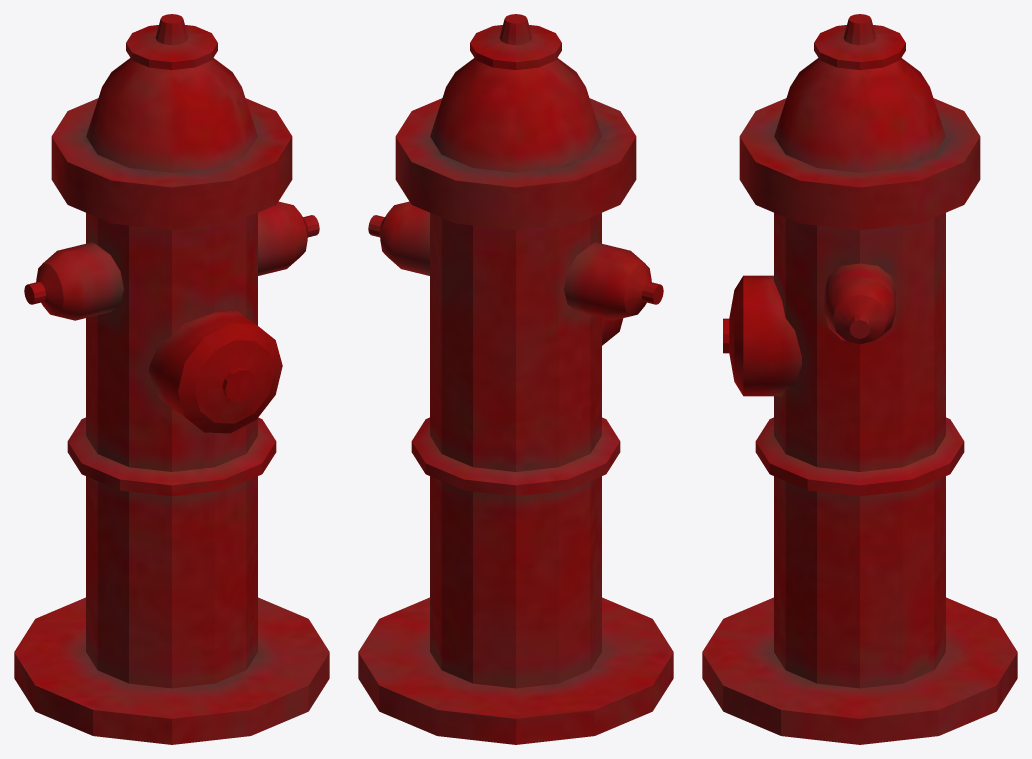
Rendered from hydrant.glb.
The picture shows the model from 3 angles, left to right: view 1: azimuth 30°, elevation 25°; view 2: azimuth 150°, elevation 25°; view 3: azimuth 270°, elevation 25°; orthographic projection.
Parts seen in each view (by area): view 1: Fire_Hydrant; view 2: Fire_Hydrant; view 3: Fire_Hydrant.
Boxes of the visible parts, x1=… form: Fire_Hydrant: x1=14, y1=14, x2=329, y2=744; Fire_Hydrant: x1=358, y1=14, x2=673, y2=744; Fire_Hydrant: x1=702, y1=14, x2=1017, y2=744.
Size of the model in its own units: 0.4736 by 1.05 by 0.4543.
1 material, 1 textured.
